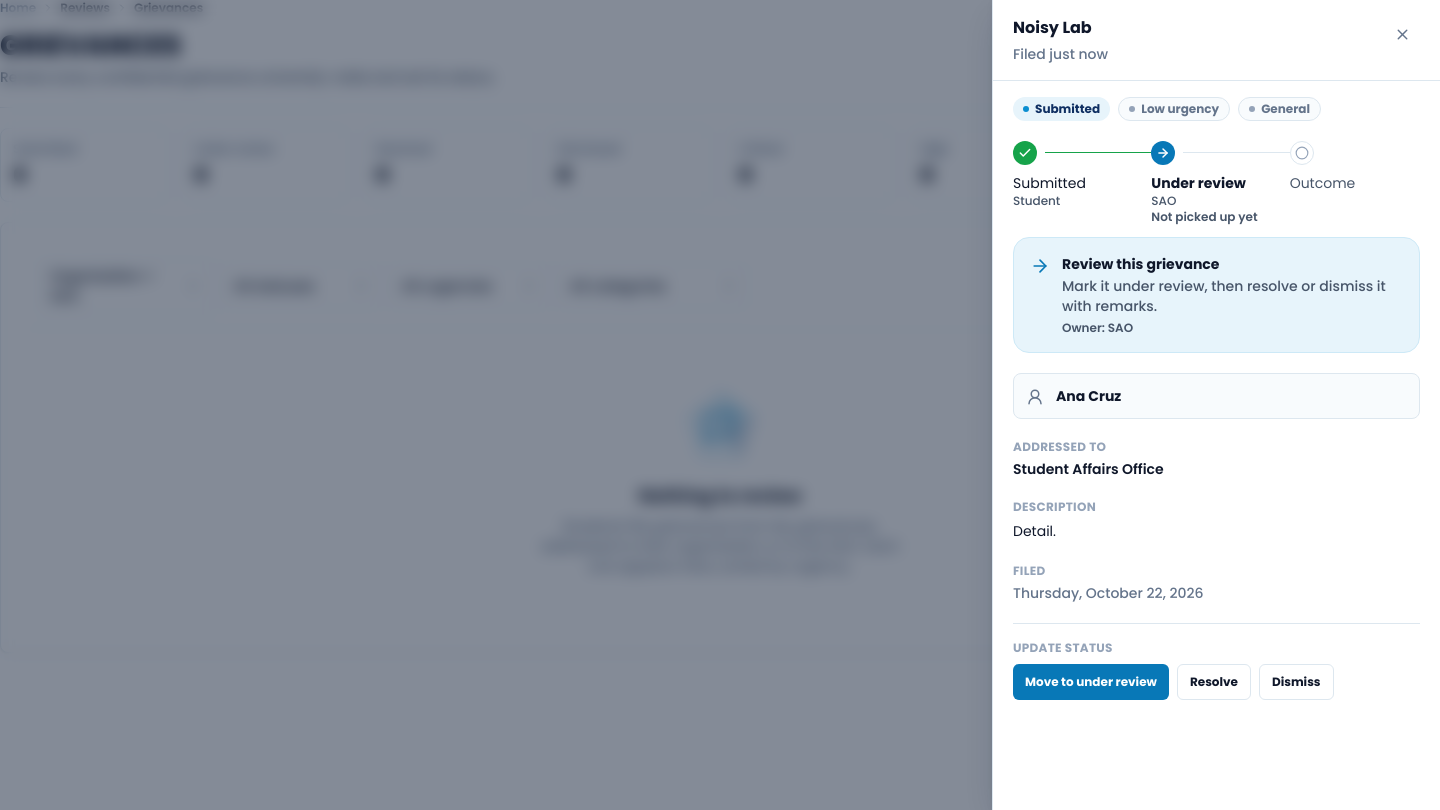
it: grievance lists and details › moves a grievance to under review in one tap with no confirmation dialog
Step 1. Click the button "Move to under review" → (1091, 682), box [1013,664,1169,700]
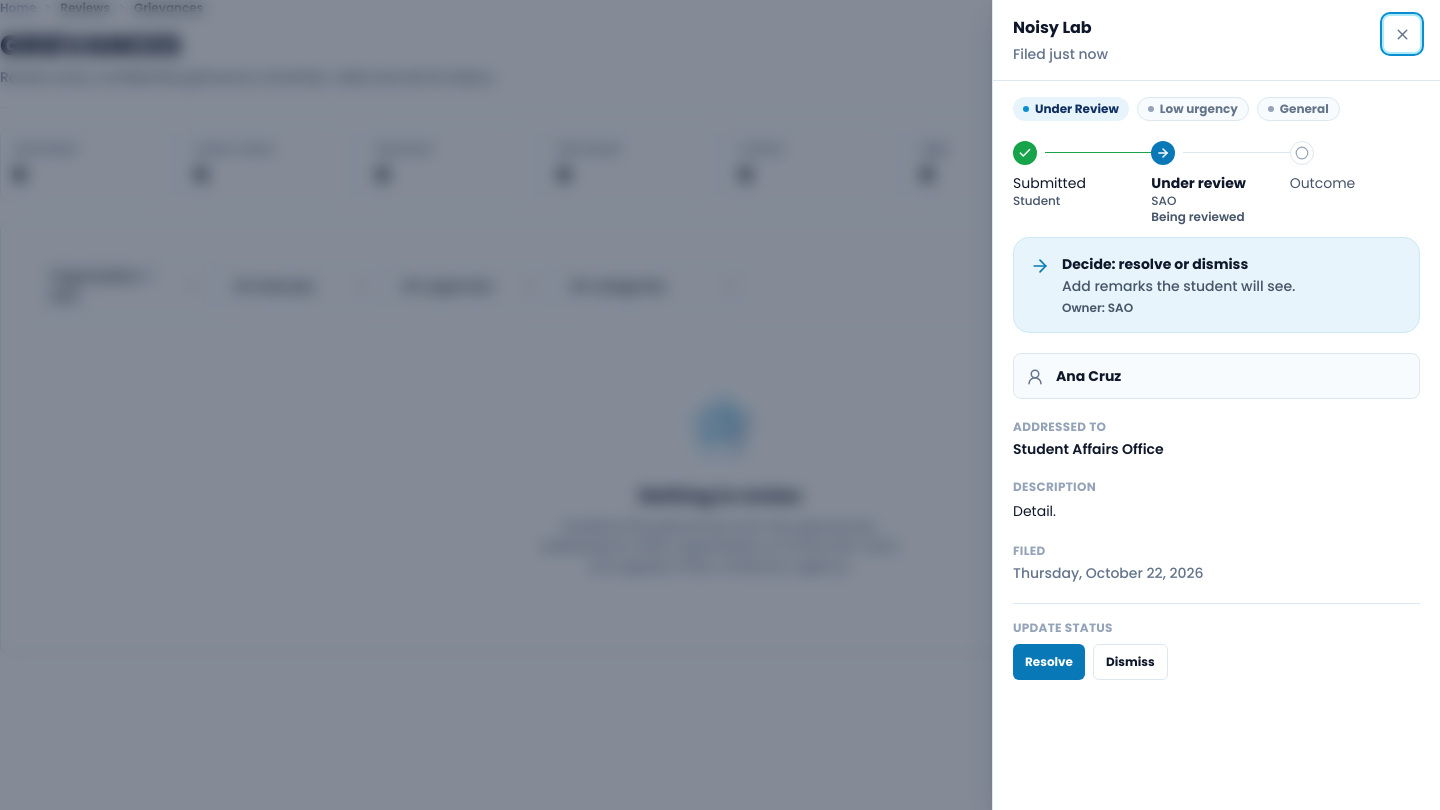
Check: the button "Move to under review" is gone
Check: the text "Decide: resolve or dismiss" is shown, box [1062,254,1248,274]
